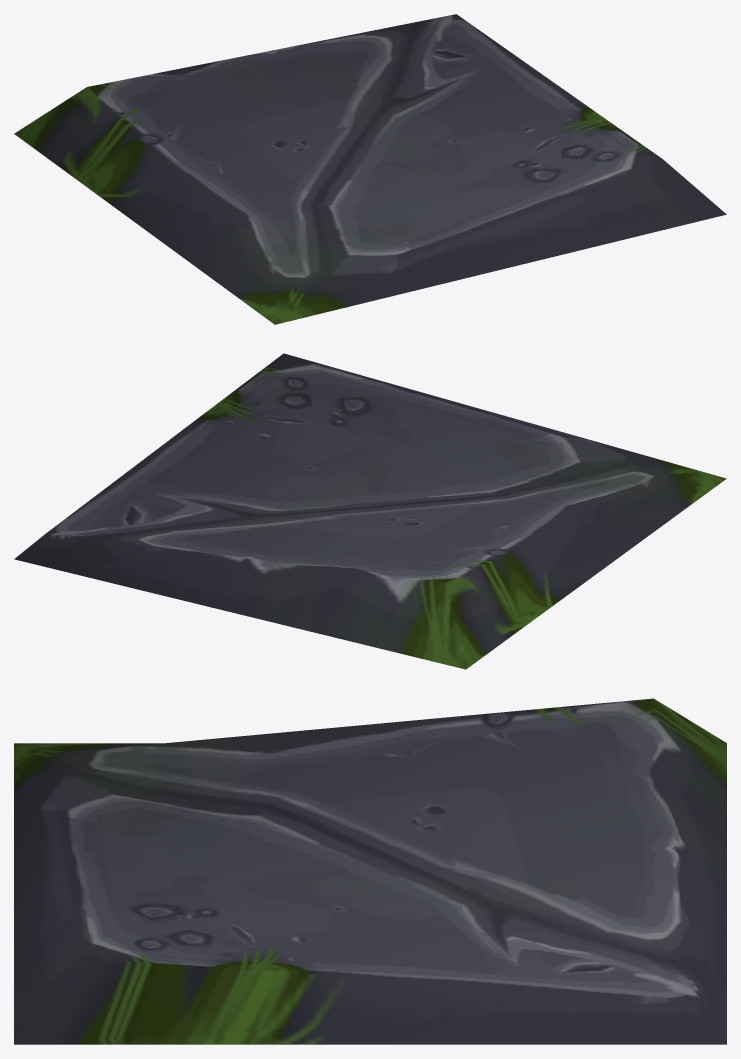
File: MOD_Floor_01_O_singlestone_8.fbx
The picture shows the model from 3 angles, top to bottom: view 1: azimuth 30°, elevation 25°; view 2: azimuth 150°, elevation 25°; view 3: azimuth 270°, elevation 25°; orthographic projection. The views are drawn at different scales.
Parts seen in each view (by area): view 1: MOD_Floor_01_O_singlestone_8; view 2: MOD_Floor_01_O_singlestone_8; view 3: MOD_Floor_01_O_singlestone_8.
Boxes of the visible parts, x1,y1,x2,y2 form: MOD_Floor_01_O_singlestone_8: [14, 14, 726, 324]; MOD_Floor_01_O_singlestone_8: [14, 353, 726, 669]; MOD_Floor_01_O_singlestone_8: [14, 698, 726, 1044].
Bounding box in the file's own units: 100 × 11.67 × 100.
